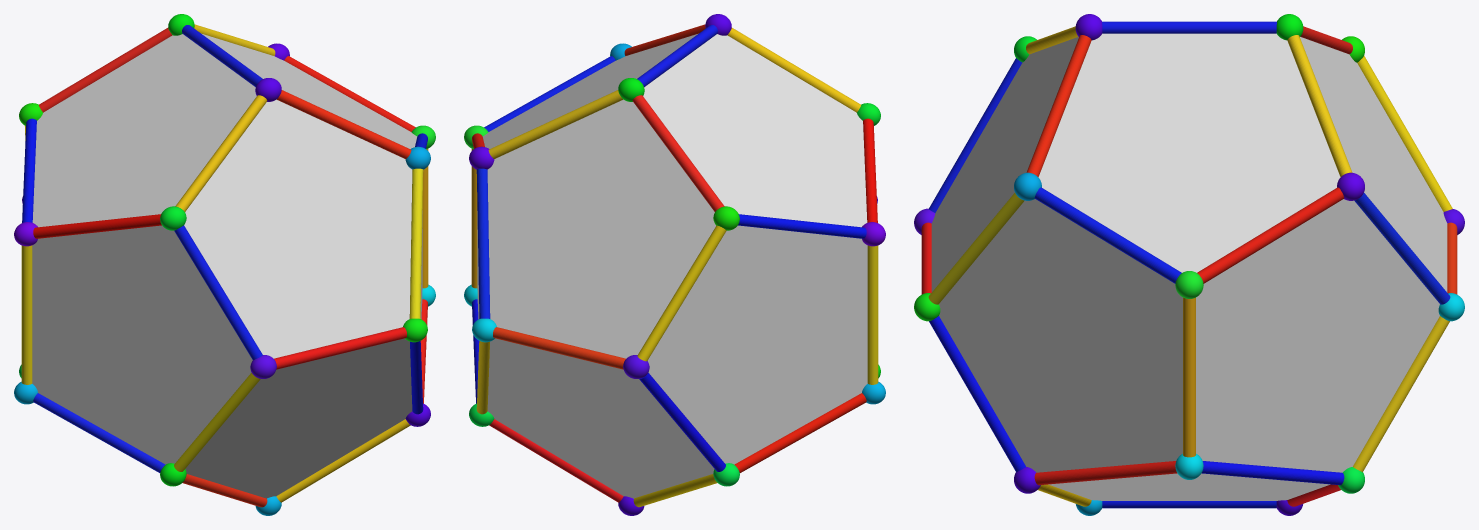
File: dodecahedron_room.fbx
The picture shows the model from 3 angles, left to right: view 1: azimuth 30°, elevation 25°; view 2: azimuth 150°, elevation 25°; view 3: azimuth 270°, elevation 25°; orthographic projection. The views are drawn at different scales.
Visible parts, largest first — view 1: dodecahedron, Cylinder.006, Cylinder.008, Cylinder.014, Cylinder.029, Cylinder.004, Cylinder.007, Cylinder.013, Cylinder.005, Cylinder.002, Cylinder.012, Cylinder.010 (+10 smaller); view 2: dodecahedron, Cylinder, Cylinder.023, Cylinder.025, Cylinder.014, Cylinder.002, Cylinder.024, Cylinder.015, Cylinder.001, Cylinder.004, Cylinder.016, Cylinder.019 (+10 smaller); view 3: dodecahedron, Cylinder.003, Cylinder.026, Cylinder.028, Cylinder.009, Cylinder.022, Cylinder.027, Cylinder.025, Cylinder.029, Cylinder.021, Cylinder.020, Cylinder.008 (+8 smaller).
Boxes of the visible parts, x1,y1,x2,y2 form: dodecahedron: (32, 33, 422, 498); Cylinder.006: (174, 225, 262, 360); Cylinder.008: (409, 168, 423, 318); Cylinder.014: (21, 245, 32, 384); Cylinder.029: (276, 90, 411, 158); Cylinder.004: (175, 95, 267, 211); Cylinder.007: (274, 327, 406, 369); Cylinder.013: (33, 393, 165, 472); Cylinder.005: (33, 214, 161, 238); Cylinder.002: (39, 27, 172, 112); Cylinder.012: (174, 373, 260, 471); Cylinder.010: (276, 419, 410, 502); dodecahedron: (477, 33, 867, 498); Cylinder: (637, 225, 726, 361); Cylinder.023: (476, 168, 490, 318); Cylinder.025: (488, 90, 623, 158); Cylinder.014: (867, 245, 878, 384); Cylinder.002: (632, 95, 724, 211); Cylinder.024: (493, 327, 625, 369); Cylinder.015: (734, 393, 866, 472); Cylinder.001: (738, 214, 866, 238); Cylinder.004: (727, 27, 860, 112); Cylinder.016: (639, 373, 725, 471); Cylinder.019: (489, 419, 623, 502); dodecahedron: (931, 33, 1447, 500); Cylinder.003: (1102, 21, 1276, 33); Cylinder.026: (1197, 187, 1344, 283); Cylinder.028: (1034, 187, 1181, 283); Cylinder.009: (929, 316, 1025, 472); Cylinder.022: (1353, 316, 1449, 472); Cylinder.027: (1183, 297, 1195, 457); Cylinder.025: (1287, 35, 1352, 177); Cylinder.029: (1026, 35, 1091, 177); Cylinder.021: (1034, 461, 1177, 485); Cylinder.020: (1202, 461, 1344, 485); Cylinder.008: (928, 193, 1024, 304).
Size of the model in its own units: 2553 by 2538 by 2539.
